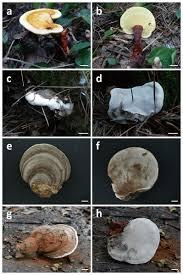Ganoderma - Fruit Body: (20, 144, 72, 192), (111, 217, 163, 264), (110, 148, 159, 194), (107, 84, 165, 121), (21, 223, 76, 259), (18, 6, 66, 35), (26, 91, 76, 116), (119, 6, 157, 36)
